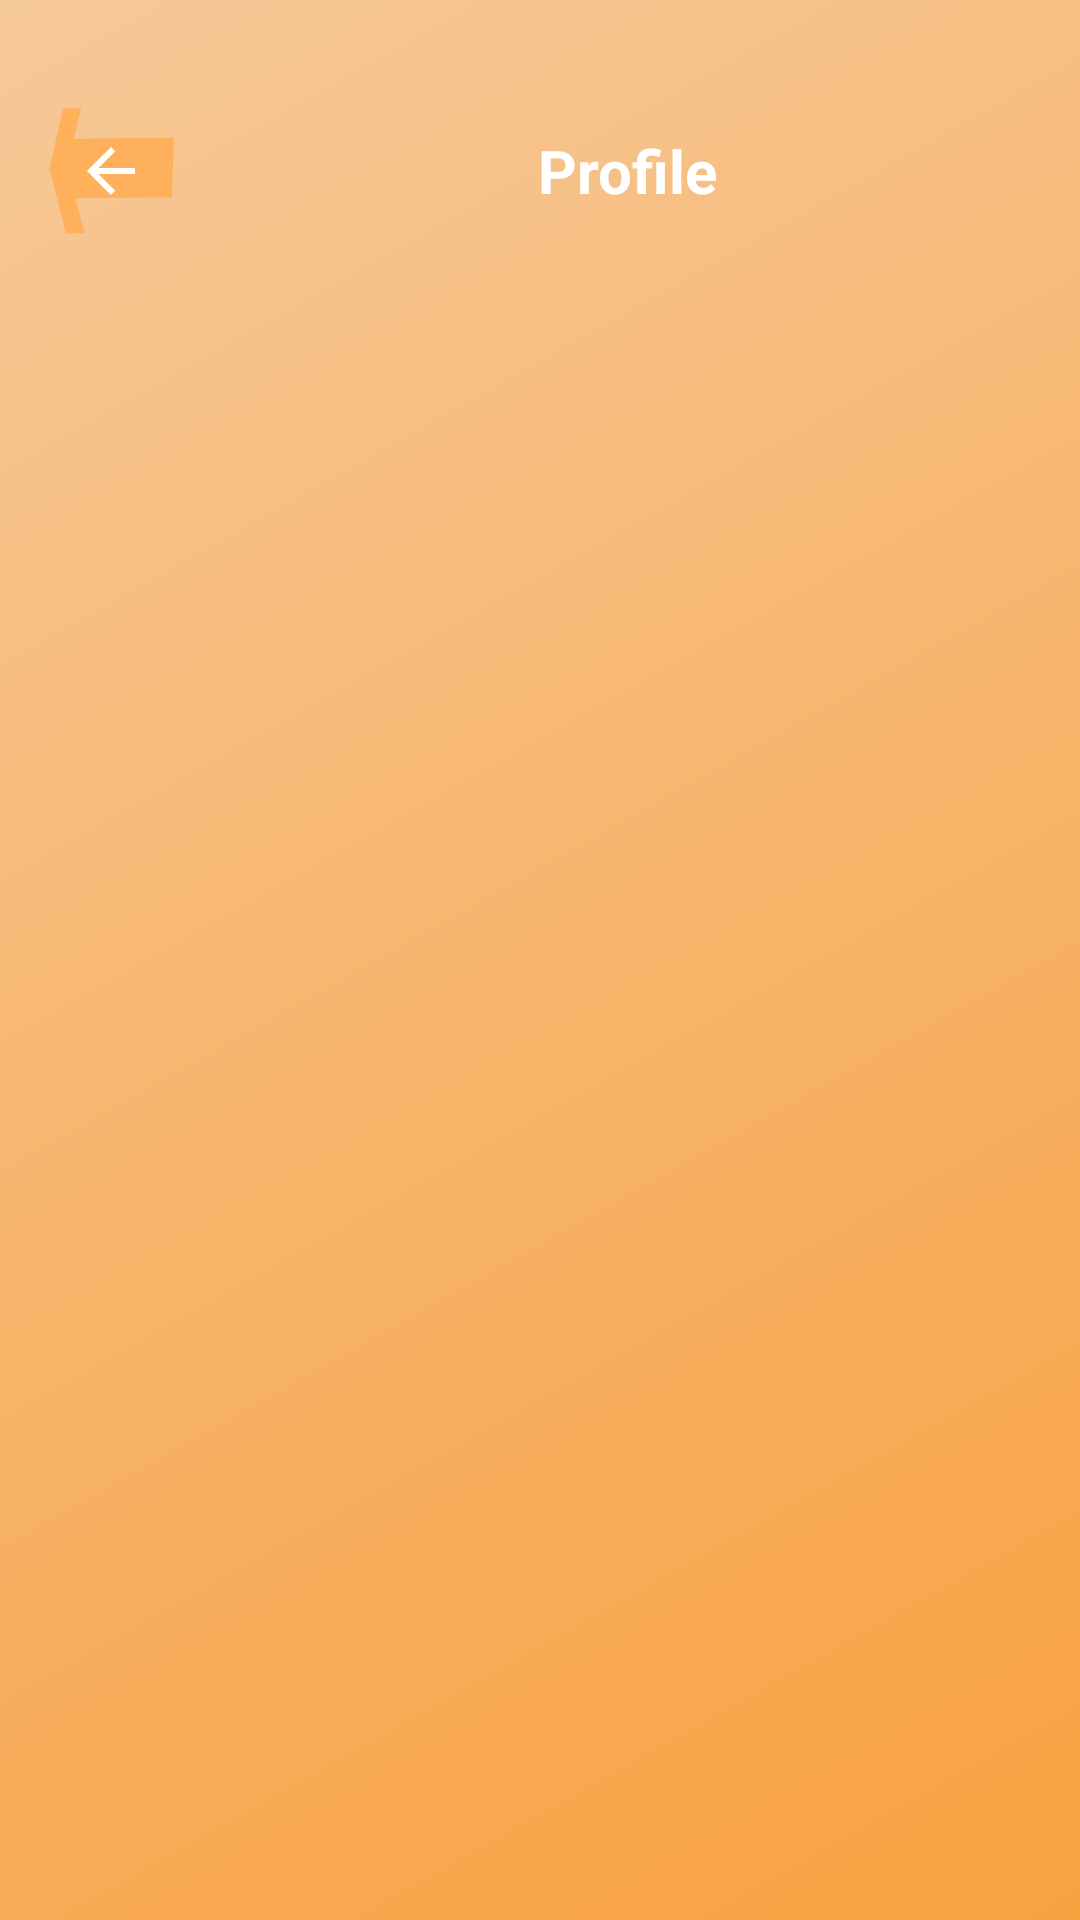

Locate icon controls on the screen. Image size 1080 × 1920, boxes as bbox(x1, y1, x2, y2).
back: bbox(50, 108, 174, 234)
